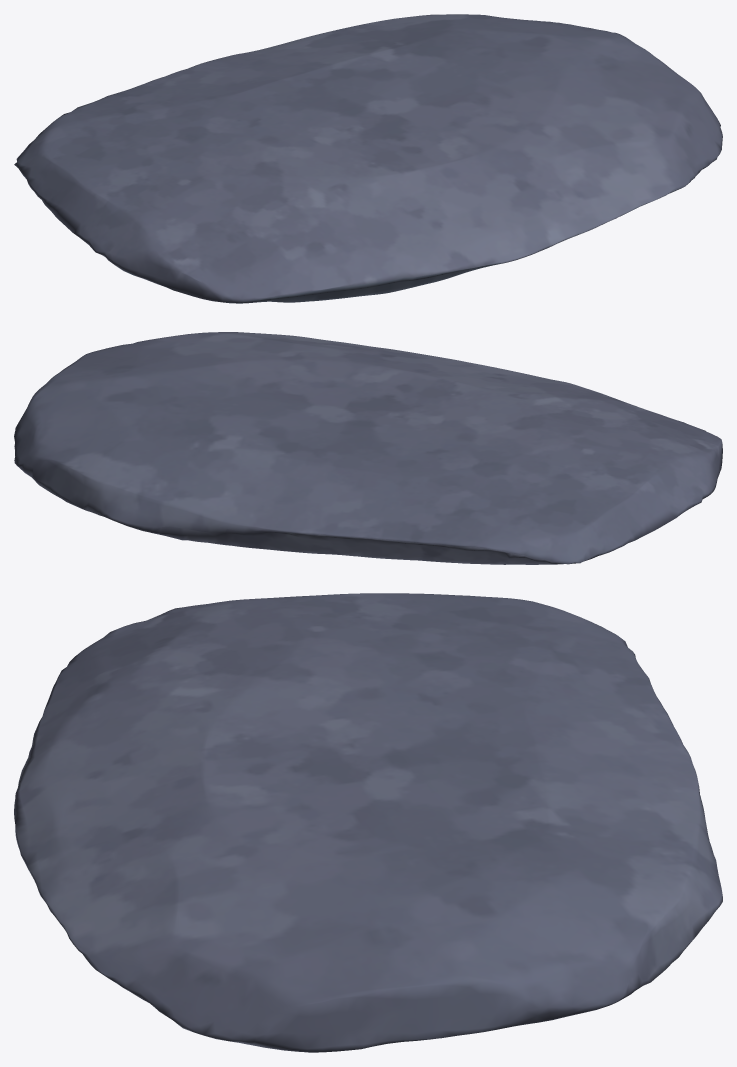
File: FlatRocks3.fbx
3 views of the same model, one above another, from view 1: azimuth 30°, elevation 25°; view 2: azimuth 150°, elevation 25°; view 3: azimuth 270°, elevation 25° (orthographic). The views are drawn at different scales.
Visible parts, largest first — view 1: FlatRocks3; view 2: FlatRocks3; view 3: FlatRocks3.
Boxes of the visible parts, x1=… form: FlatRocks3: x1=14, y1=14, x2=722, y2=303; FlatRocks3: x1=14, y1=332, x2=722, y2=564; FlatRocks3: x1=14, y1=593, x2=722, y2=1052.
Size of the model in its own units: 399 by 54.14 by 292.
1 material, 1 textured.
